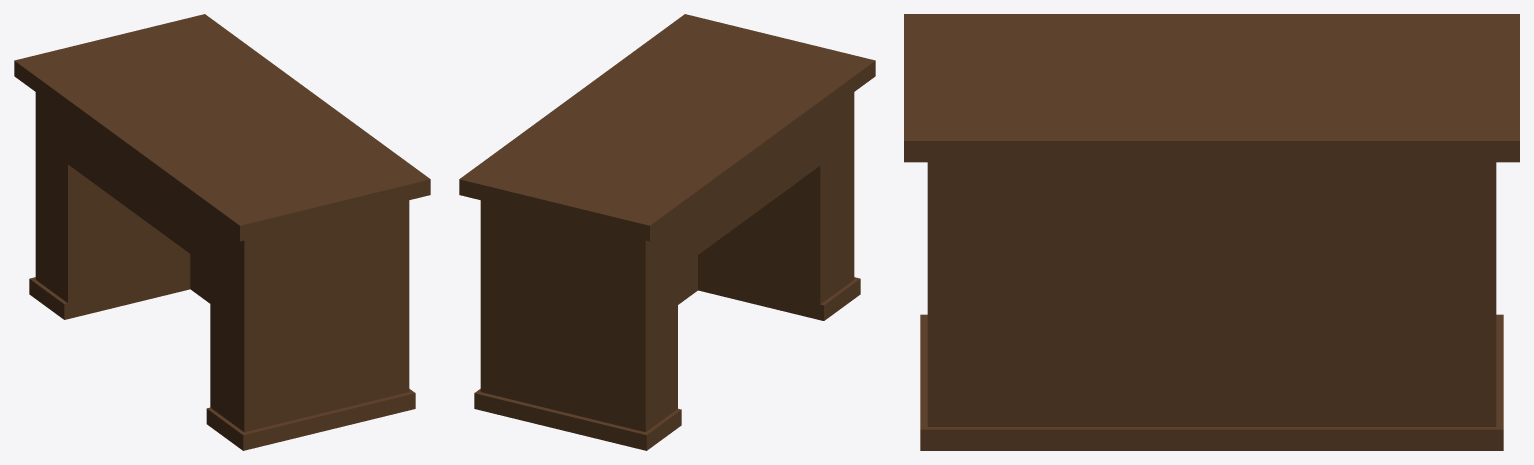
Rendered from desk.fbx.
3 views of the same model, side by side, from view 1: azimuth 30°, elevation 25°; view 2: azimuth 150°, elevation 25°; view 3: azimuth 270°, elevation 25° (orthographic). The views are drawn at different scales.
Visible parts, largest first — view 1: Cube.123, Cube.122, Cube.121; view 2: Cube.123, Cube.122, Cube.121; view 3: Cube.123, Cube.122, Cube.121.
Part boxes in pixels (x1=…): Cube.123: x1=35, y1=92, x2=409, y2=432; Cube.122: x1=14, y1=14, x2=430, y2=241; Cube.121: x1=29, y1=274, x2=415, y2=450; Cube.123: x1=480, y1=92, x2=854, y2=432; Cube.122: x1=459, y1=14, x2=875, y2=241; Cube.121: x1=474, y1=274, x2=860, y2=450; Cube.123: x1=927, y1=162, x2=1496, y2=426; Cube.122: x1=904, y1=14, x2=1519, y2=162; Cube.121: x1=920, y1=314, x2=1503, y2=450.
Bounding box in the file's own units: 621 × 721 × 1273.
